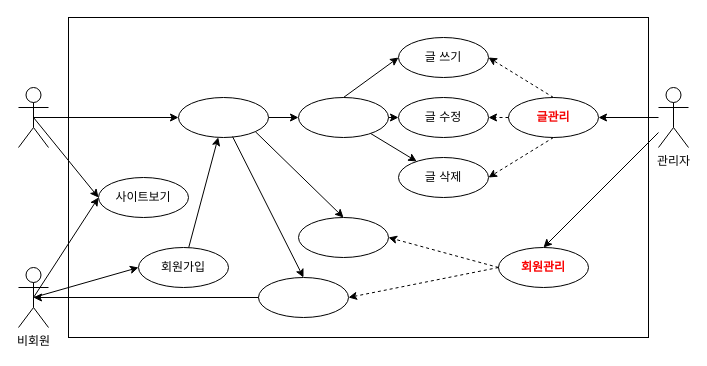
This 707x366 diagram has some shape labels left out. The shapes that lost their labels are listed below. From the top down, each one's box as (x1, y1, x2, y2) in pixels, then its label:
(18, 86, 48, 148): 회원
(178, 96, 268, 138): 로그인
(298, 96, 388, 138): 글 목록
(298, 216, 388, 258): 회원정보수정
(258, 276, 348, 318): 회원탈퇴
